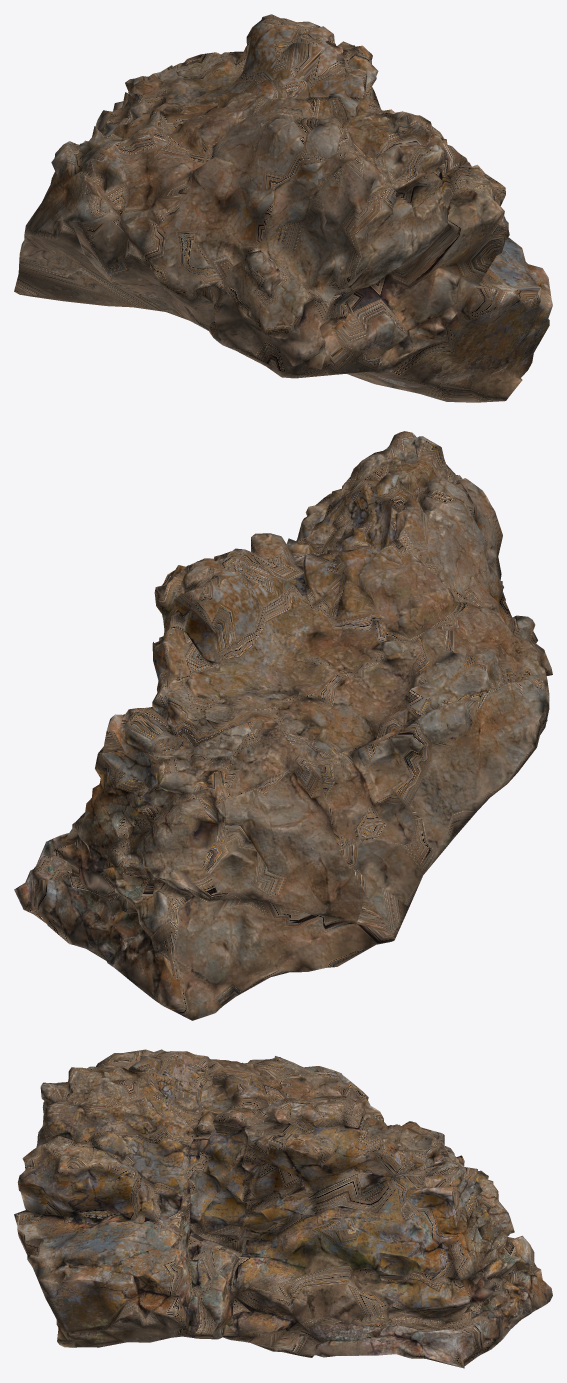
Rendered from boulder.glb.
3 views of the same model, one above another, from view 1: azimuth 30°, elevation 25°; view 2: azimuth 150°, elevation 25°; view 3: azimuth 270°, elevation 25° (orthographic). The views are drawn at different scales.
Visible parts, largest first — view 1: boulder_01; view 2: boulder_01; view 3: boulder_01.
Boxes of the visible parts, x1=… form: boulder_01: x1=14, y1=14, x2=552, y2=402; boulder_01: x1=14, y1=431, x2=552, y2=1020; boulder_01: x1=14, y1=1049, x2=552, y2=1368.
Size of the model in its own units: 1.27 by 1 by 1.83.
Materials: 1 (1 with a texture image).
